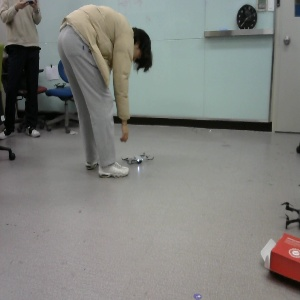Drone: (32, 2, 147, 178), (119, 153, 151, 174)
